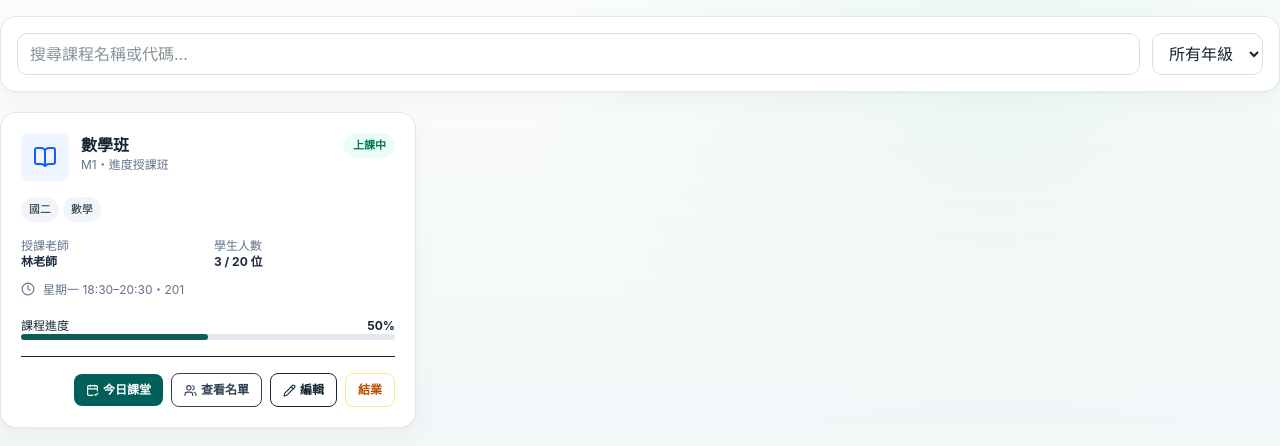
Scenario: class overview › filters immediately and renders an empty state
Type "英文" into the field named "搜尋班級" at coordinates (578, 54), box [17,33,1140,75]
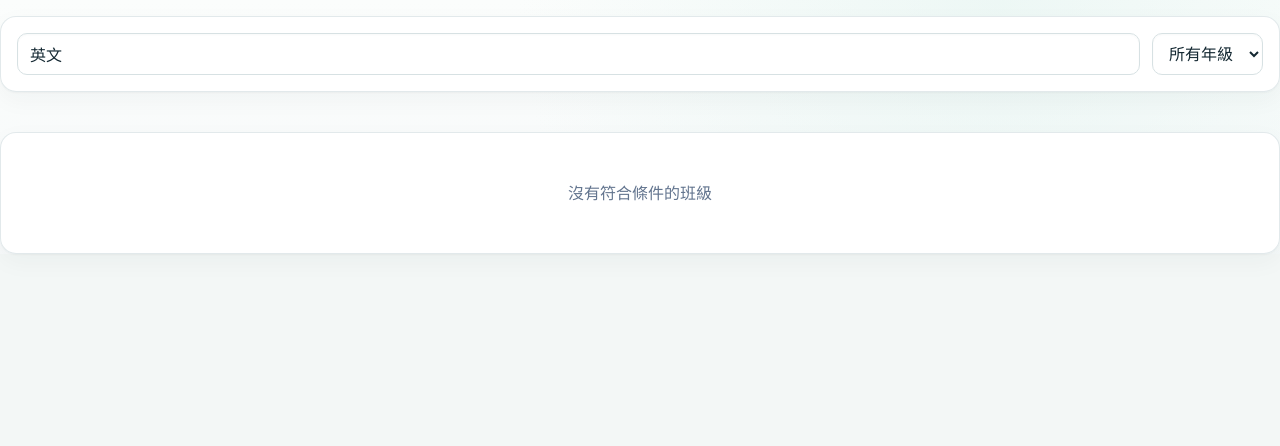
Check: the text "沒有符合條件的班級" is shown, box [0,132,1279,254]
